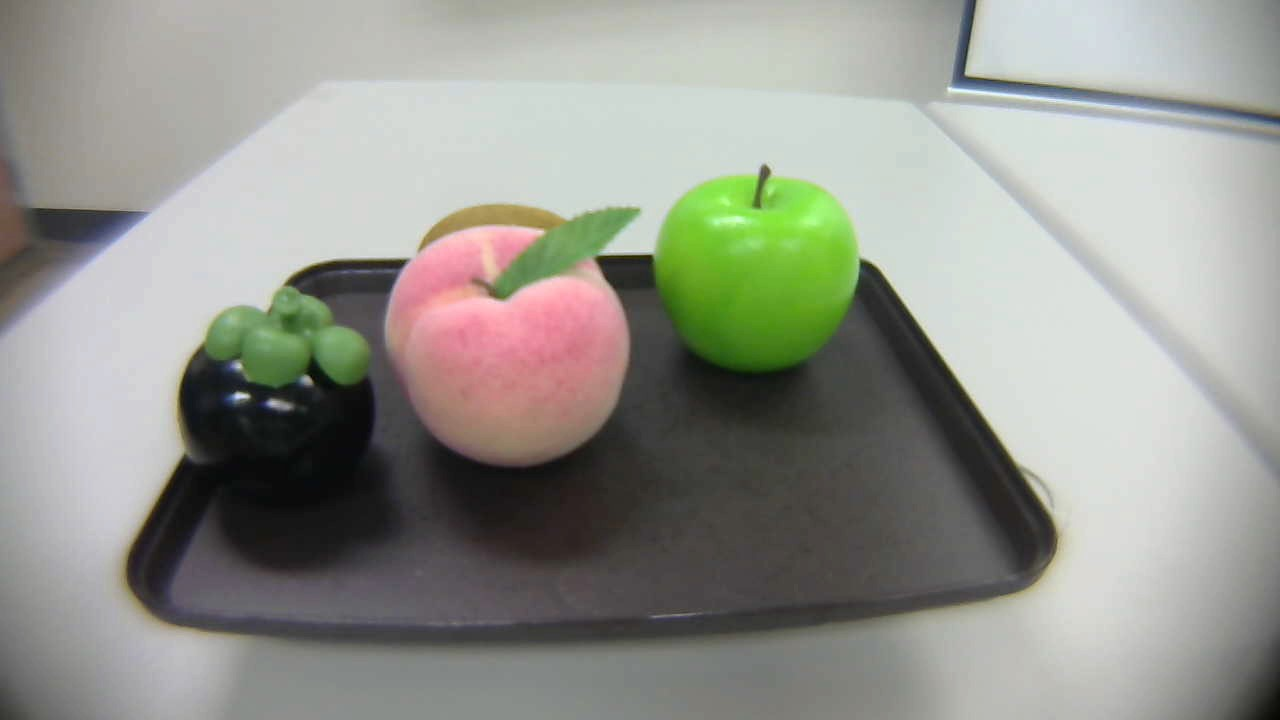green apple: (647, 161, 873, 376)
kiwi fruit: (392, 186, 588, 265)
mangosteen: (169, 283, 381, 507)
peach: (378, 208, 642, 476)
